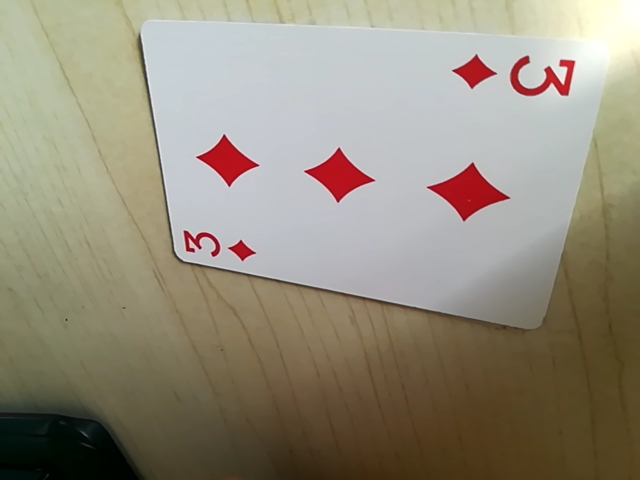fk 3: (454, 49, 578, 102), (177, 225, 262, 268)
